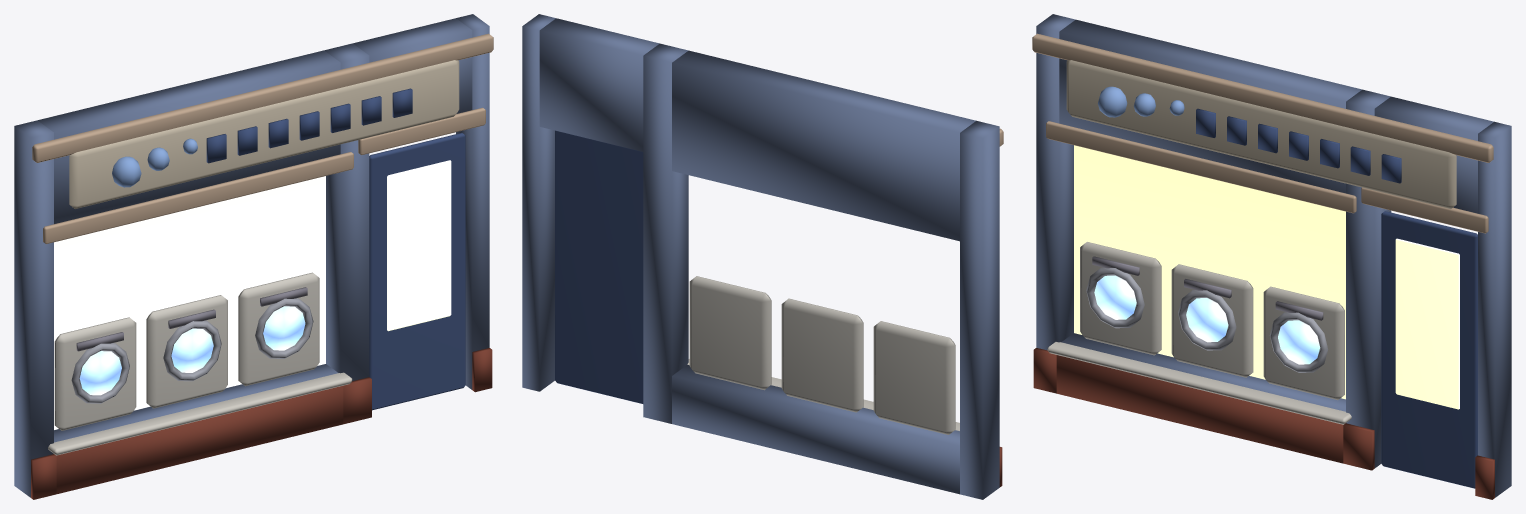
The model's file is laundromat_front.glb.
3 views of the same model, side by side, from view 1: azimuth 30°, elevation 25°; view 2: azimuth 150°, elevation 25°; view 3: azimuth 330°, elevation 25° (orthographic).
Parts seen in each view (by area): view 1: laundromat_front, door, washer_window; view 2: laundromat_front, door; view 3: laundromat_front, door, washer_window.
Part boxes in pixels (left/top/right/bottom): laundromat_front: left=14, top=14, right=493, bottom=499; door: left=369, top=133, right=465, bottom=410; washer_window: left=163, top=320, right=221, bottom=381; laundromat_front: left=522, top=14, right=1003, bottom=499; door: left=555, top=130, right=643, bottom=403; laundromat_front: left=1032, top=14, right=1511, bottom=499; door: left=1381, top=211, right=1477, bottom=488; washer_window: left=1178, top=290, right=1236, bottom=350.
Bounding box in the file's own units: 4 × 3 × 0.51.
